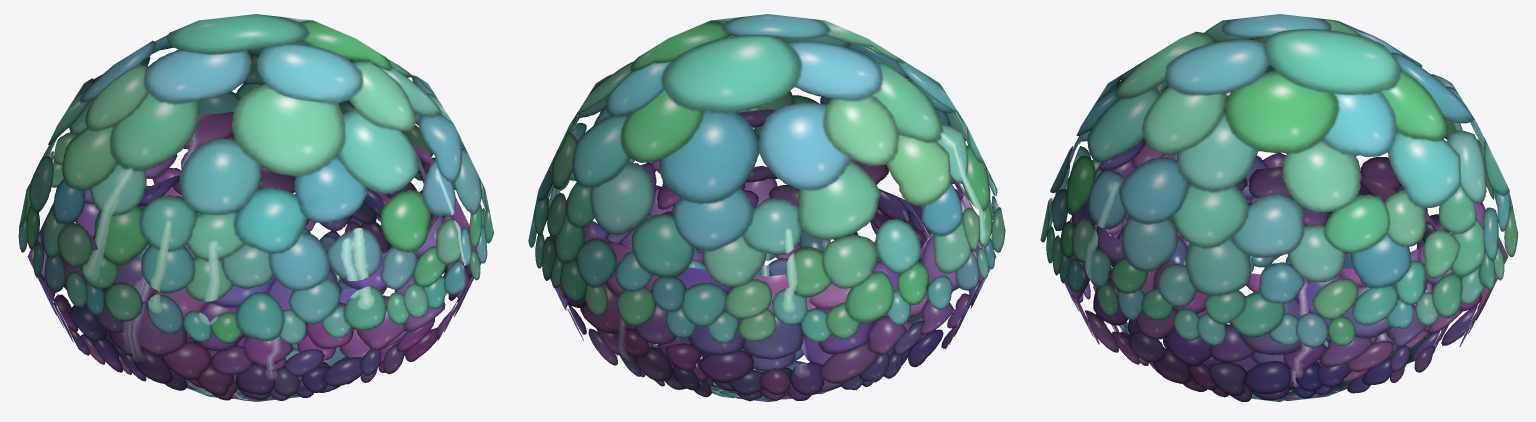
File: bushes_02.fbx
The picture shows the model from 3 angles, left to right: view 1: azimuth 30°, elevation 25°; view 2: azimuth 150°, elevation 25°; view 3: azimuth 270°, elevation 25°; orthographic projection.
Visible parts, largest first — view 1: bushes_02; view 2: bushes_02; view 3: bushes_02.
Boxes of the visible parts, x1,y1,x2,y2 form: bushes_02: [18, 14, 493, 401]; bushes_02: [528, 14, 1005, 401]; bushes_02: [1040, 14, 1518, 401].
Bounding box in the file's own units: 189 × 145 × 189.
